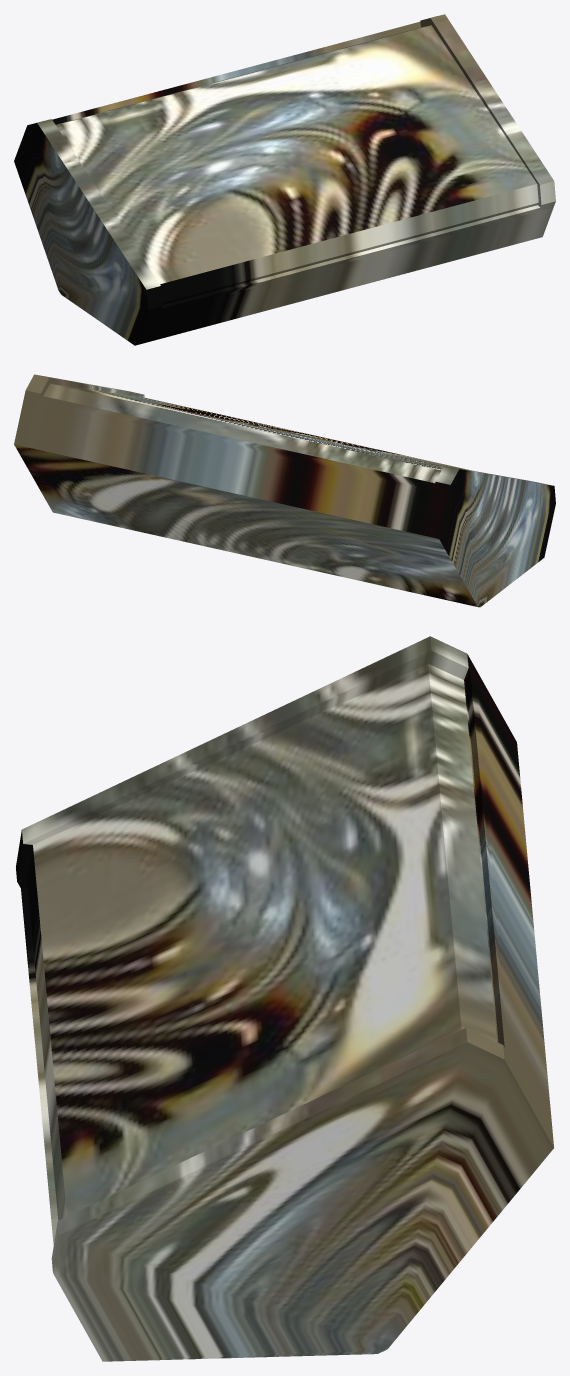
The model's file is Floor Speaker.fbx.
The picture shows the model from 3 angles, top to bottom: view 1: azimuth 30°, elevation 25°; view 2: azimuth 150°, elevation 25°; view 3: azimuth 270°, elevation 25°; orthographic projection. The views are drawn at different scales.
Visible parts, largest first — view 1: SPEAKER FLOOR 3; view 2: SPEAKER FLOOR 3; view 3: SPEAKER FLOOR 3.
Part boxes in pixels (x1,y1,x2,y2): SPEAKER FLOOR 3: (14,14,555,345); SPEAKER FLOOR 3: (14,374,555,607); SPEAKER FLOOR 3: (16,636,553,1361).
Bounding box in the file's own units: 105 × 37.1 × 57.71.
1 material, 1 textured.
